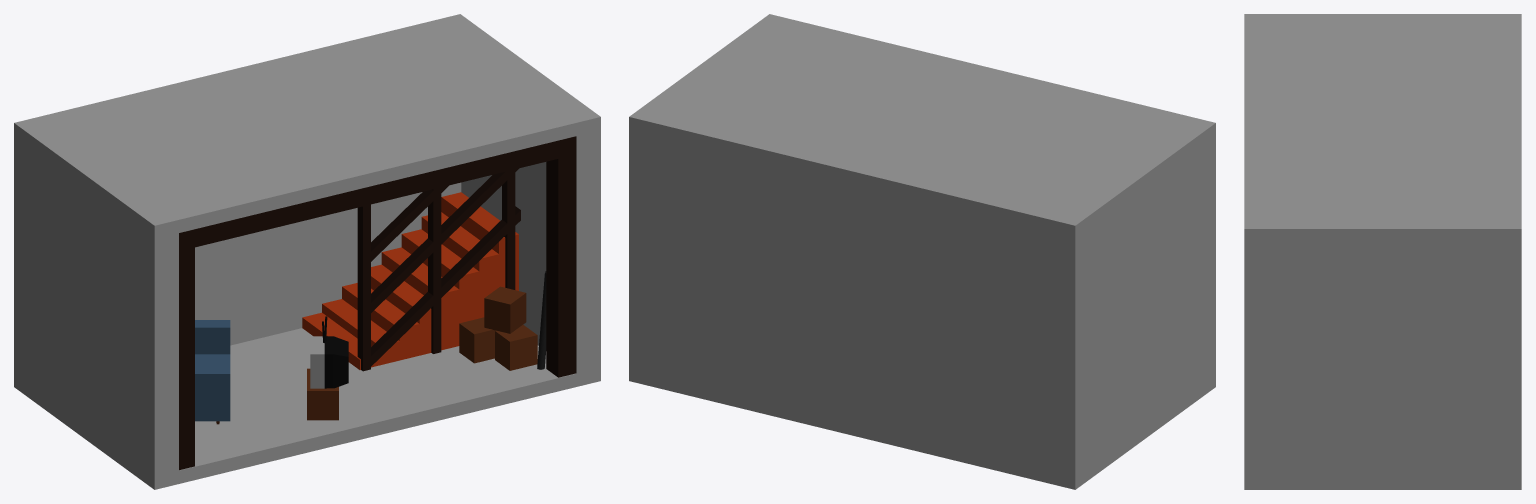
The model's file is Basement_1247.obj.
3 views of the same model, side by side, from view 1: azimuth 30°, elevation 25°; view 2: azimuth 150°, elevation 25°; view 3: azimuth 270°, elevation 25° (orthographic).
Visible parts, largest first — view 1: Box001; view 2: Box001; view 3: Box001.
Boxes of the visible parts, box(x1,y1,x2,y2) form: Box001: box(14, 14, 600, 489); Box001: box(629, 14, 1215, 489); Box001: box(1244, 14, 1521, 489).
Bounding box in the file's own units: 104 × 58.86 × 56.7.
